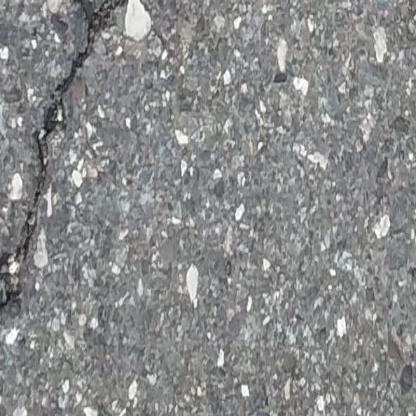Cracks: (0, 0, 139, 339)
